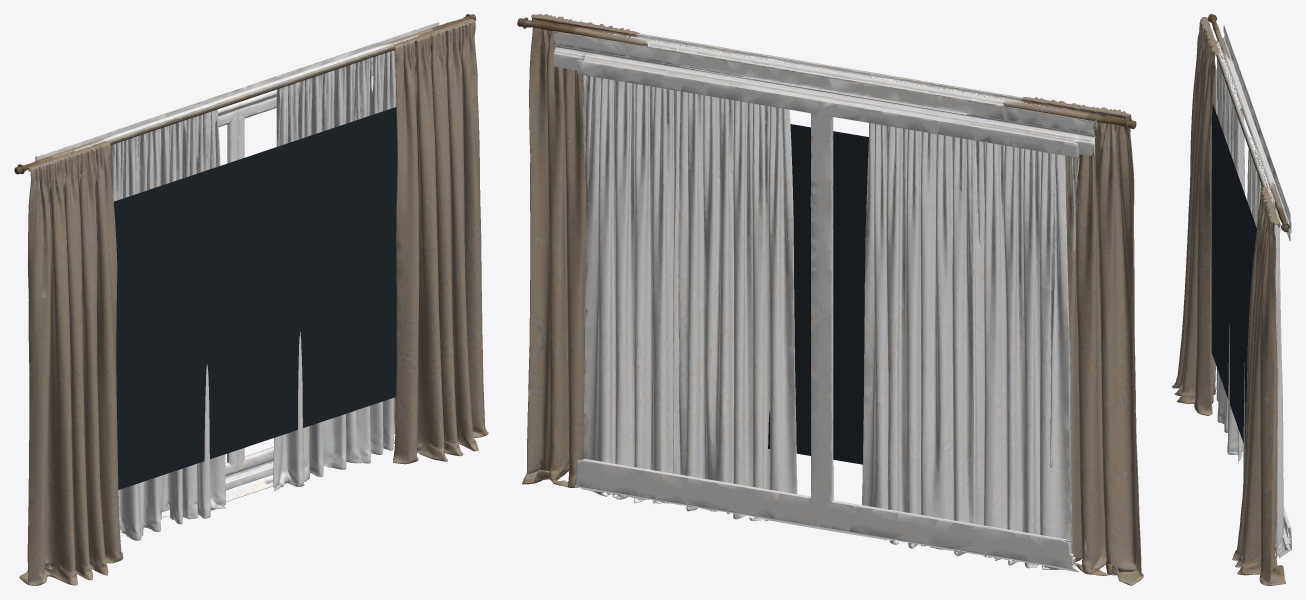
File: room_window_drapes.glb
3 views of the same model, side by side, from view 1: azimuth 30°, elevation 25°; view 2: azimuth 150°, elevation 25°; view 3: azimuth 270°, elevation 25° (orthographic). The views are drawn at different scales.
Parts seen in each view (by area): view 1: mesh_node.010, CELINE_WindowNightDepth_Background; view 2: mesh_node.010, CELINE_WindowNightDepth_Background; view 3: mesh_node.010, CELINE_WindowNightDepth_Background.
Boxes of the visible parts, x1,y1,x2,y2 form: mesh_node.010: (14,14,488,585); CELINE_WindowNightDepth_Background: (96,107,397,489); mesh_node.010: (517,14,1143,585); CELINE_WindowNightDepth_Background: (768,124,868,464); mesh_node.010: (1172,14,1291,585); CELINE_WindowNightDepth_Background: (1211,103,1256,448).
Size of the model in its own units: 2.82 by 2.21 by 0.6659.
Materials: 2 (1 with a texture image).
